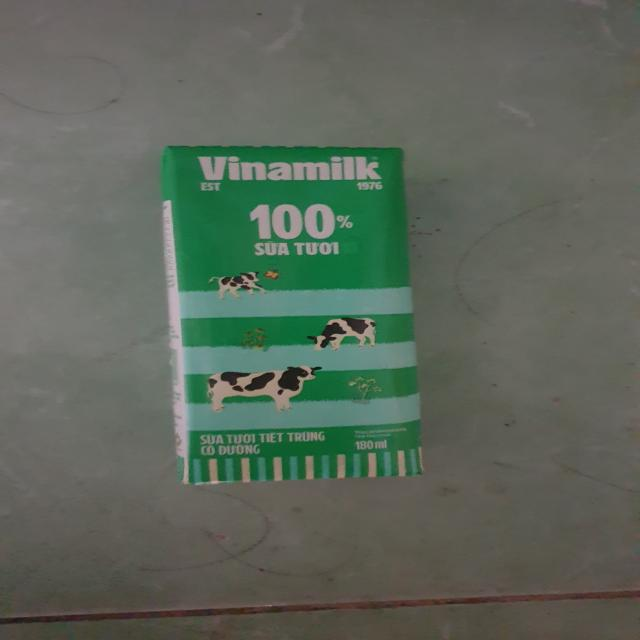Vina: (162, 141, 419, 496)
